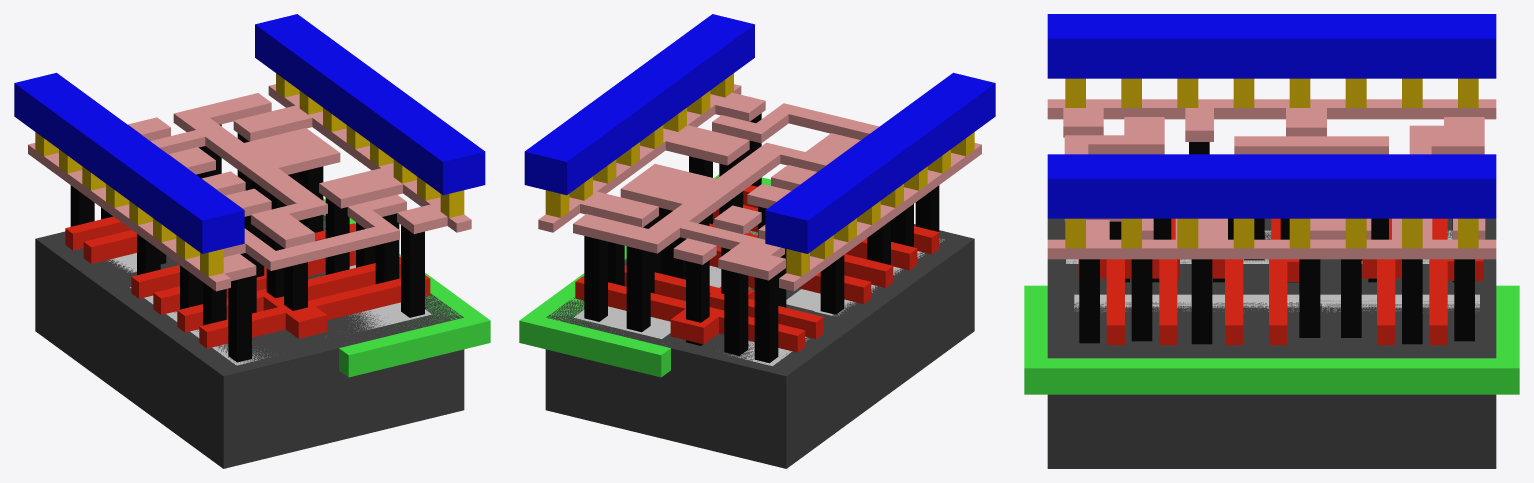
File: sky130_fd_sc_hd__o211a_2.obj
3 views of the same model, side by side, from view 1: azimuth 30°, elevation 25°; view 2: azimuth 150°, elevation 25°; view 3: azimuth 270°, elevation 25° (orthographic). The views are drawn at different scales.
Visible parts, largest first — view 1: subs, metal1, li, licon, poly, nwell, mcon, tap, diff; view 2: subs, metal1, li, licon, poly, nwell, mcon, tap, diff; view 3: metal1, subs, li, nwell, licon, poly, mcon, tap.
Boxes of the visible parts, left/top/right/bottom form: subs: left=35, top=215, right=464, bottom=468; metal1: left=14, top=14, right=485, bottom=253; li: left=28, top=84, right=471, bottom=291; licon: left=70, top=124, right=424, bottom=362; poly: left=65, top=216, right=430, bottom=348; nwell: left=323, top=198, right=490, bottom=377; mcon: left=35, top=73, right=464, bottom=276; tap: left=348, top=265, right=431, bottom=331; diff: left=108, top=253, right=270, bottom=365; subs: left=545, top=221, right=974, bottom=468; metal1: left=524, top=14, right=995, bottom=253; li: left=538, top=84, right=981, bottom=291; licon: left=584, top=113, right=939, bottom=363; poly: left=575, top=177, right=939, bottom=352; nwell: left=519, top=174, right=770, bottom=377; mcon: left=545, top=73, right=974, bottom=276; tap: left=574, top=230, right=757, bottom=338; diff: left=727, top=238, right=944, bottom=365; metal1: left=1047, top=14, right=1496, bottom=218; subs: left=1047, top=218, right=1496, bottom=468; li: left=1047, top=99, right=1496, bottom=259; nwell: left=1024, top=285, right=1519, bottom=394; licon: left=1079, top=142, right=1474, bottom=344; poly: left=1078, top=218, right=1483, bottom=345; mcon: left=1065, top=78, right=1478, bottom=248; tap: left=1074, top=294, right=1479, bottom=311.
Size of the model in its own units: 3.2 by 2.74 by 4.06.
